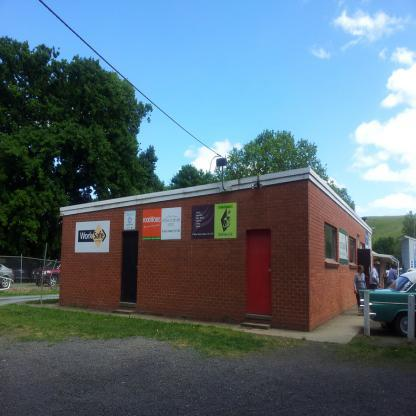car: (358, 271, 416, 340), (34, 258, 61, 288), (1, 264, 18, 291), (16, 264, 36, 282)
